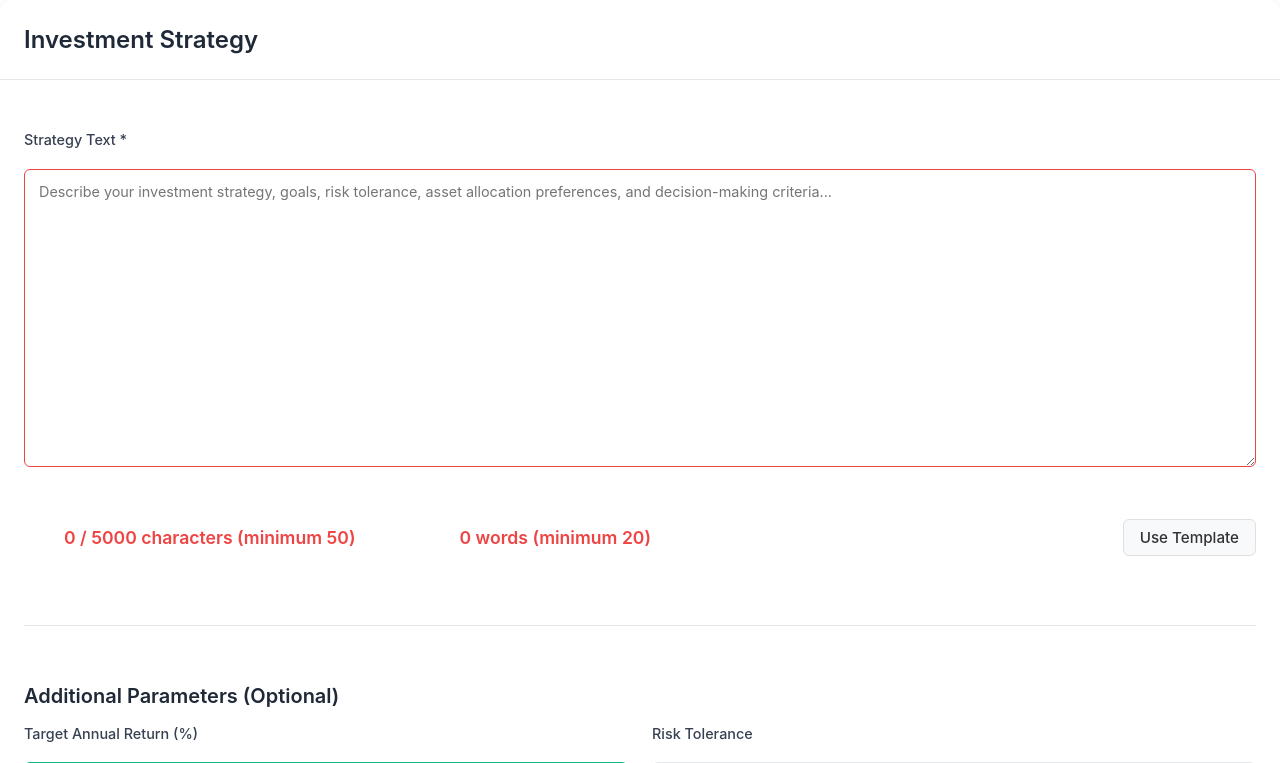
Test: StrategyEditorCard › should show validation error when less than 20 words
Type "Too short strategy text" into the text box labelled "Strategy Text *" at (640, 318), box [24,169,1256,467]
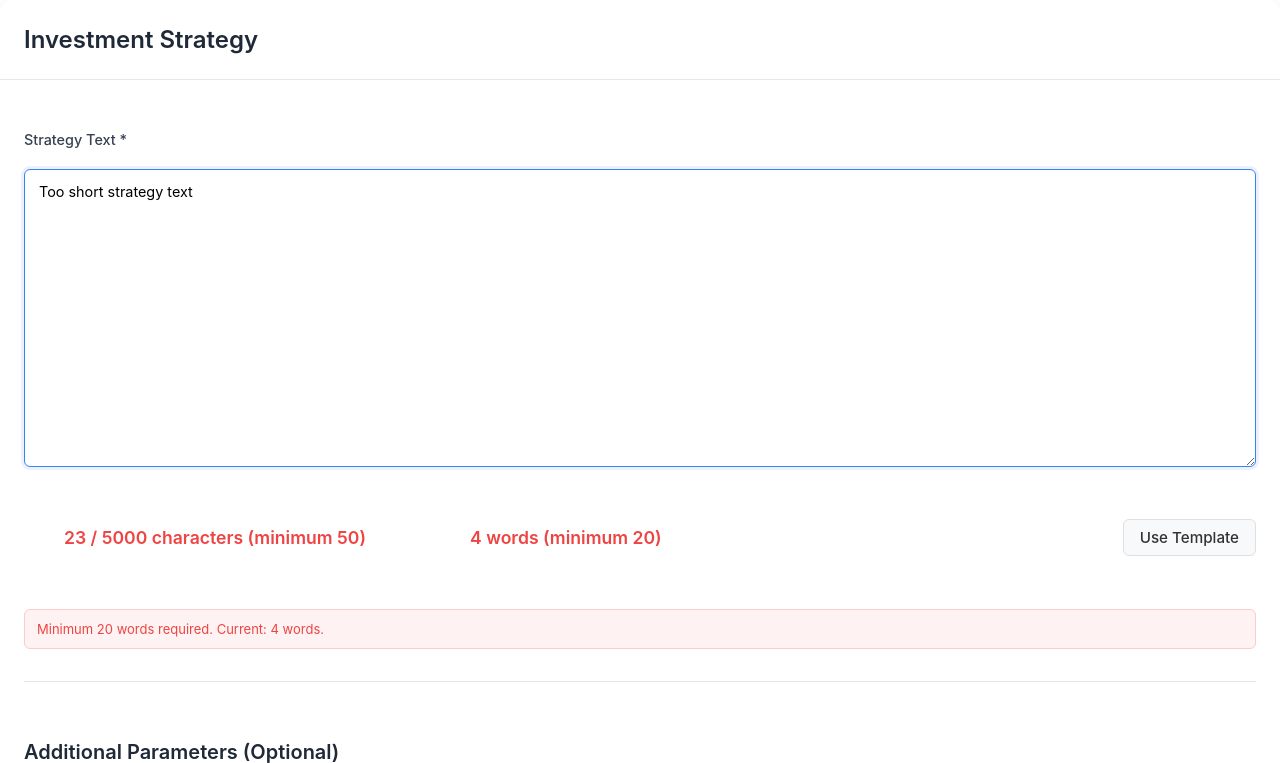
Expected: the text "Minimum 20 words required. Current: 4 words." is shown, [24,609,1256,649]
